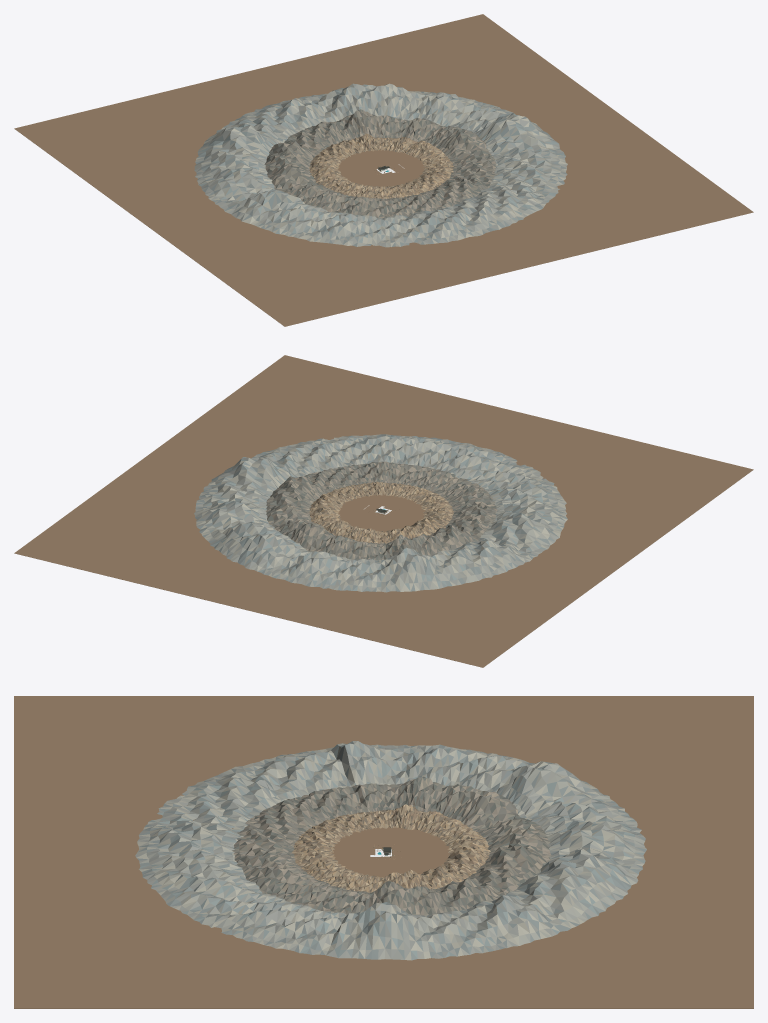
File: house.glb
3 views of the same model, one above another, from view 1: azimuth 30°, elevation 25°; view 2: azimuth 150°, elevation 25°; view 3: azimuth 270°, elevation 25° (orthographic). The views are drawn at different scales.
Visible parts, largest first — view 1: landscape gravel, landscape range; view 2: landscape gravel, landscape range; view 3: landscape gravel, landscape range.
Part boxes in pixels (<box>): landscape gravel: <box>14,14,753,326</box>; landscape range: <box>194,83,567,247</box>; landscape gravel: <box>14,355,753,667</box>; landscape range: <box>194,434,567,592</box>; landscape gravel: <box>14,696,753,1008</box>; landscape range: <box>135,741,646,960</box>.
Bounding box in the file's own units: 1200 × 58.65 × 1200.
